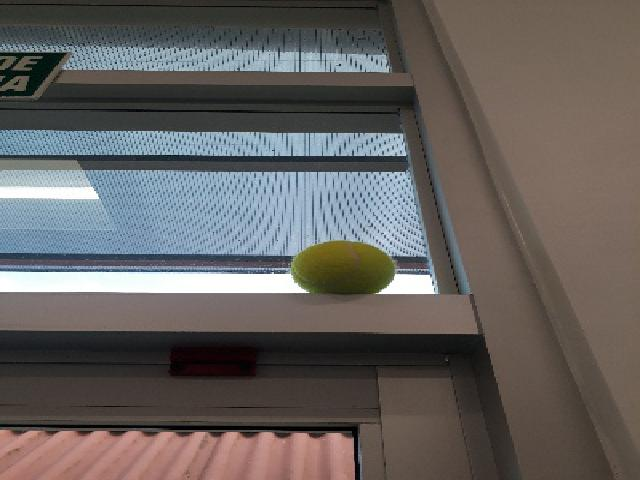Ball: (291, 241, 395, 293)
